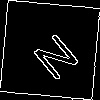N: (24, 24, 82, 83)
